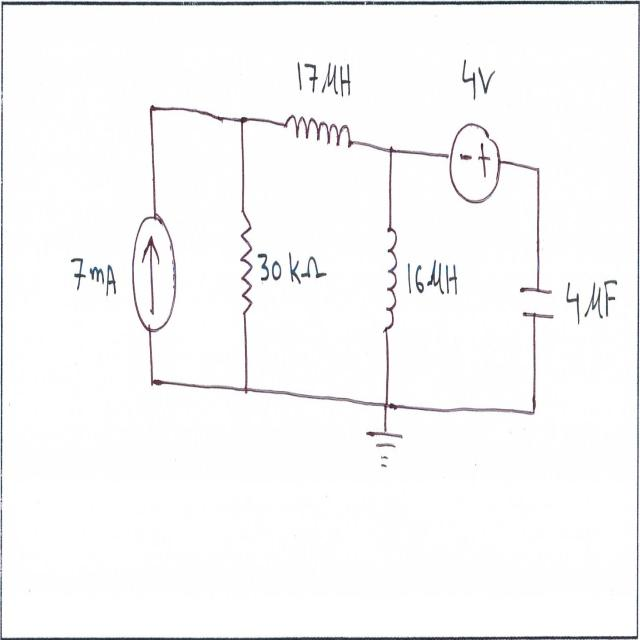capacitor: (518, 280, 559, 332)
current_source: (130, 205, 179, 342)
ground: (364, 425, 406, 477)
inductor: (281, 110, 357, 156), (384, 211, 397, 348)
resistor: (238, 194, 258, 326)
voltage_source: (448, 106, 506, 207)
